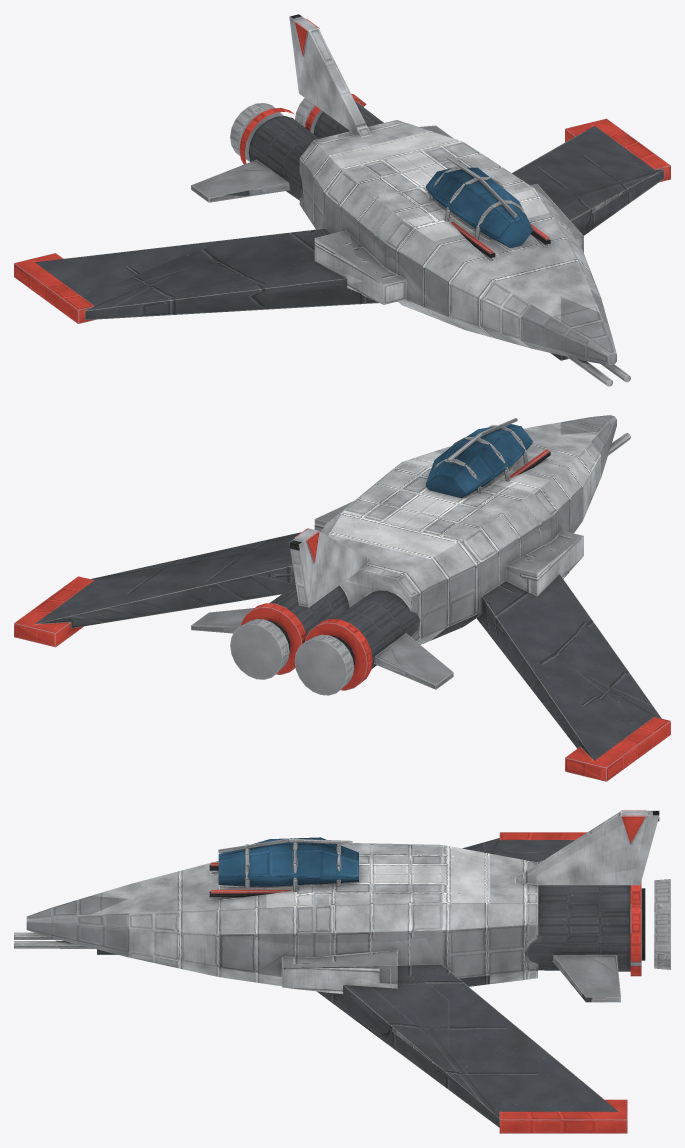
Rendered from sd_ship_sahin.glb.
The picture shows the model from 3 angles, top to bottom: view 1: azimuth 30°, elevation 25°; view 2: azimuth 150°, elevation 25°; view 3: azimuth 270°, elevation 25°; orthographic projection.
Parts seen in each view (by area): view 1: LOD0_body, LOD1_body; view 2: LOD0_body, LOD1_body; view 3: LOD0_body, LOD1_body.
Part boxes in pixels (x1=…): LOD0_body: x1=14, y1=14, x2=670, y2=386; LOD1_body: x1=74, y1=15, x2=668, y2=368; LOD0_body: x1=14, y1=415, x2=670, y2=781; LOD1_body: x1=30, y1=419, x2=660, y2=760; LOD0_body: x1=14, y1=810, x2=670, y2=1133; LOD1_body: x1=52, y1=811, x2=659, y2=1117.
Size of the model in its own units: 1.04 by 0.2967 by 1.
1 material, 1 textured.
